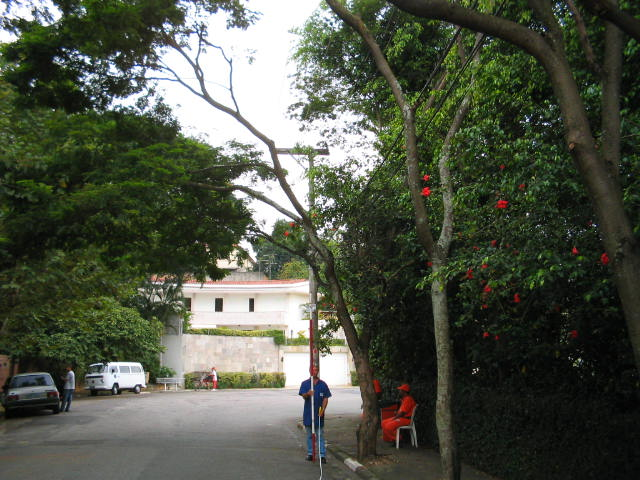crown: (2, 2, 425, 308)
stem: (418, 265, 477, 479), (343, 348, 386, 459)
stick: (304, 291, 318, 464)
tree: (1, 1, 425, 459)
